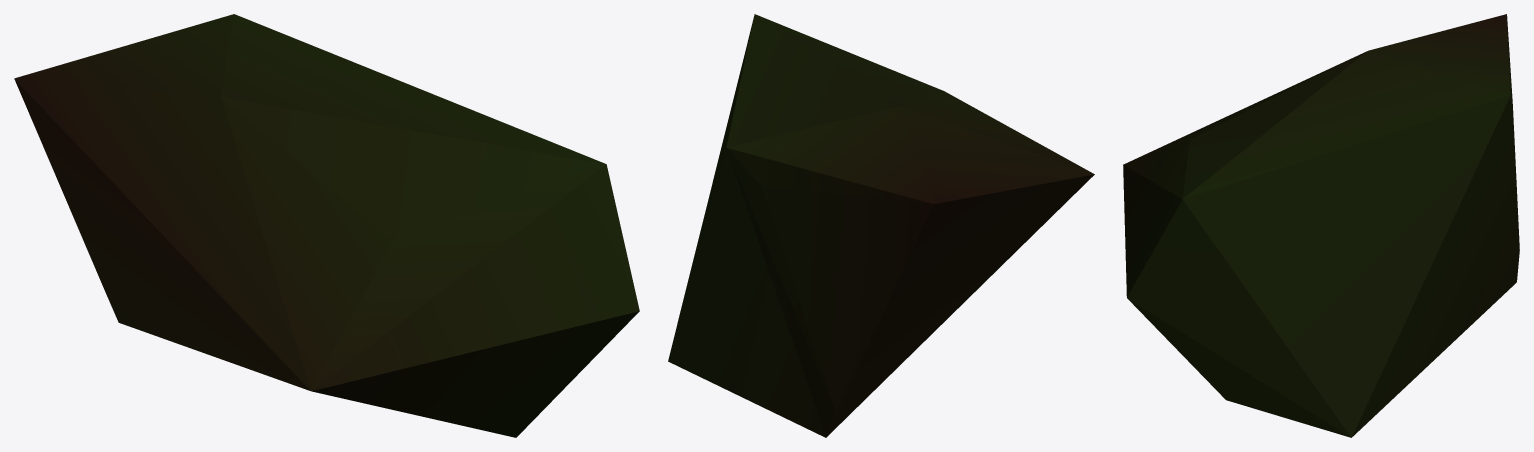
The model's file is tf_talus_chunk_1.glb.
The picture shows the model from 3 angles, left to right: view 1: azimuth 30°, elevation 25°; view 2: azimuth 150°, elevation 25°; view 3: azimuth 270°, elevation 25°; orthographic projection. The views are drawn at different scales.
Visible parts, largest first — view 1: tf_talus_chunk_1; view 2: tf_talus_chunk_1; view 3: tf_talus_chunk_1.
Boxes of the visible parts, left/top/right/bottom form: tf_talus_chunk_1: left=14, top=14, right=639, bottom=437; tf_talus_chunk_1: left=668, top=14, right=1094, bottom=437; tf_talus_chunk_1: left=1123, top=14, right=1519, bottom=437.
Size of the model in its own units: 0.8893 by 0.7521 by 0.9545.
